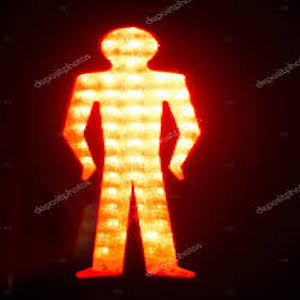red: (52, 18, 214, 282)
